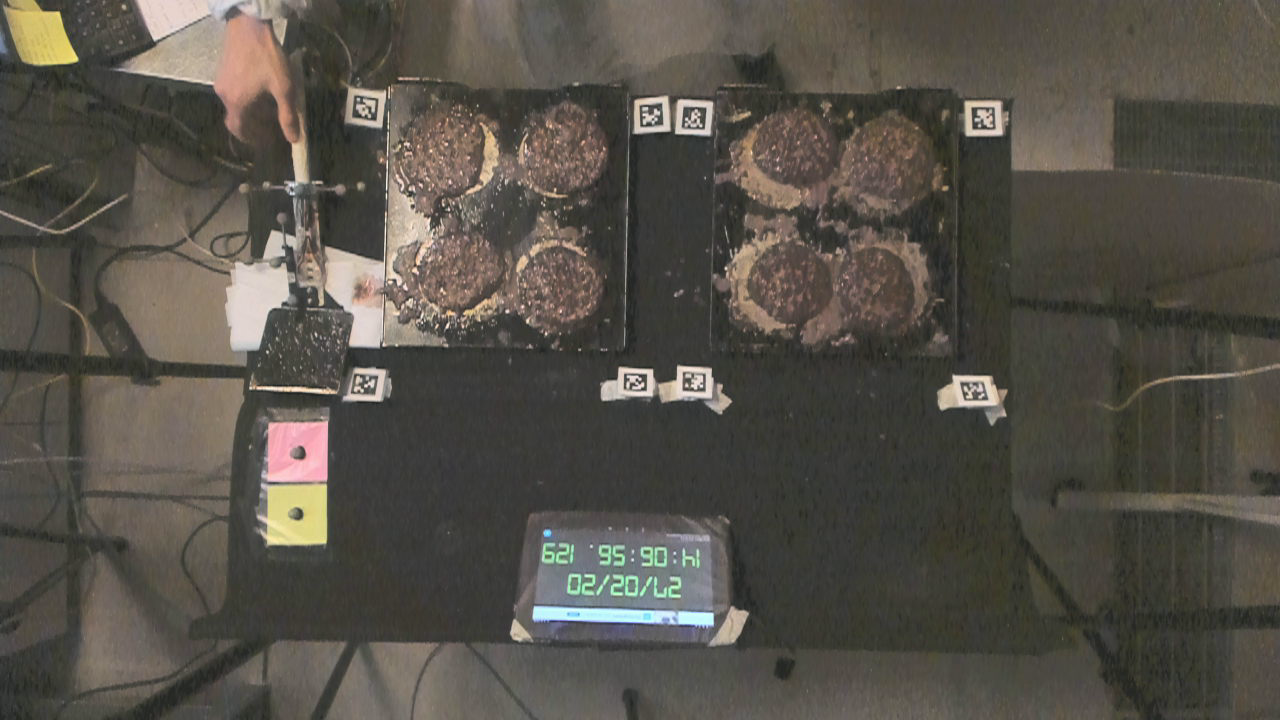hamburger: (516, 246, 604, 333), (398, 107, 484, 193), (517, 111, 605, 193), (847, 120, 933, 198), (755, 232, 829, 322), (420, 229, 500, 307), (754, 103, 832, 183), (846, 243, 911, 332)
marker: (268, 422, 329, 483)
